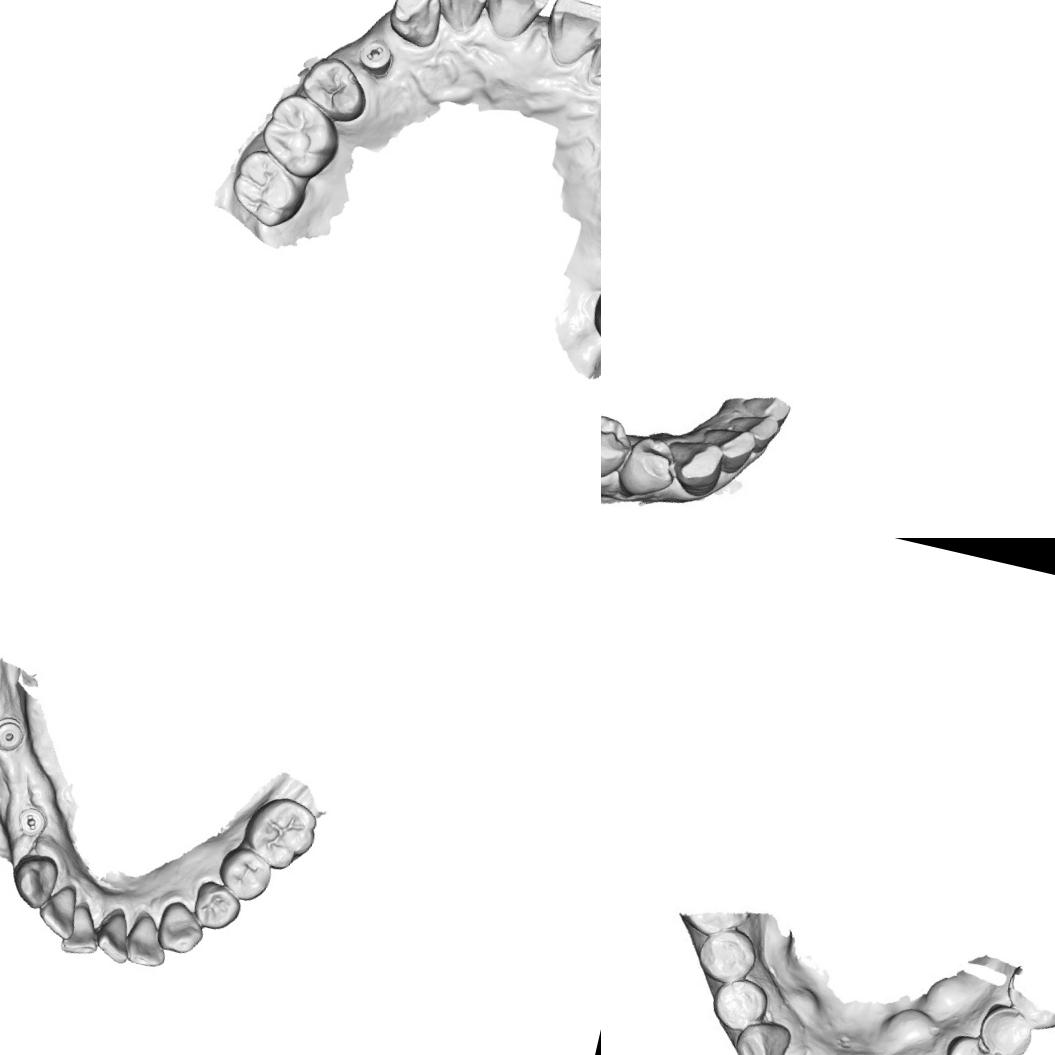canine: (5, 848, 63, 914), (668, 435, 726, 499), (152, 896, 210, 960), (382, 0, 450, 51), (728, 1014, 797, 1055)
implant: (0, 712, 28, 755)
implant_minus: (354, 34, 398, 78), (14, 804, 50, 841)
incisor: (538, 0, 601, 75), (475, 0, 554, 48), (120, 910, 174, 971), (34, 878, 84, 942), (724, 406, 780, 461), (704, 424, 757, 480), (58, 902, 106, 960), (91, 908, 138, 966), (427, 0, 494, 39), (740, 386, 795, 427), (582, 23, 601, 95)
molar: (252, 86, 350, 186), (224, 142, 314, 235), (237, 790, 323, 877)
premolar: (294, 51, 376, 128), (614, 429, 680, 504), (692, 922, 762, 990), (706, 972, 774, 1037), (213, 842, 278, 906), (968, 1000, 1040, 1055), (189, 877, 246, 934), (601, 406, 634, 487), (934, 1028, 1003, 1055)
